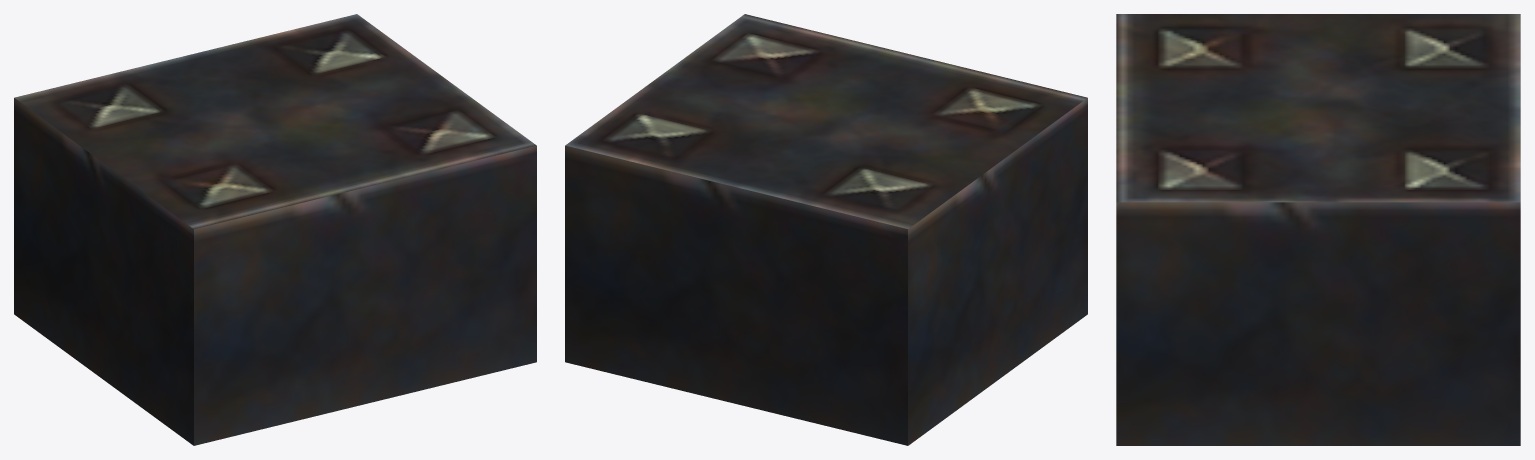
Rendered from B_tiekuai001.fbx.
3 views of the same model, side by side, from view 1: azimuth 30°, elevation 25°; view 2: azimuth 150°, elevation 25°; view 3: azimuth 270°, elevation 25° (orthographic). The views are drawn at different scales.
Parts seen in each view (by area): view 1: B_tiekuai001; view 2: B_tiekuai001; view 3: B_tiekuai001.
Part boxes in pixels (x1,y1,x2,y2): B_tiekuai001: (14,14,536,445); B_tiekuai001: (565,14,1087,445); B_tiekuai001: (1116,14,1520,445).
Size of the model in its own units: 51.75 by 31.25 by 46.97.
